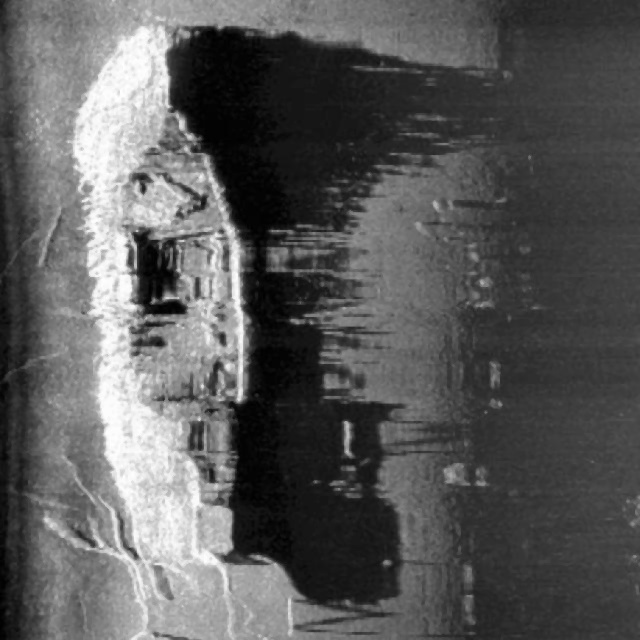Ship: (75, 18, 269, 591)
